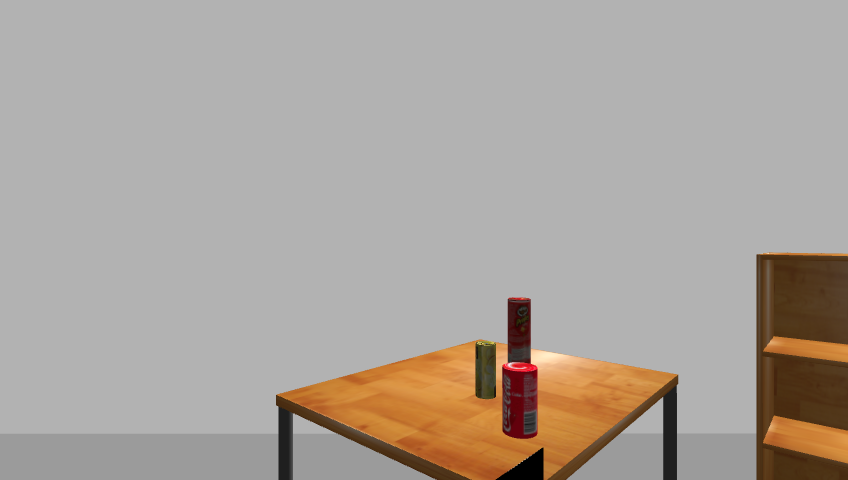aruco marker: (485, 448, 547, 480)
biscuits pack: (475, 340, 497, 400)
bookshelf: (751, 251, 848, 479)
coke can: (499, 362, 540, 438)
dinner table: (267, 341, 689, 480)
pringles can: (505, 296, 534, 371)
